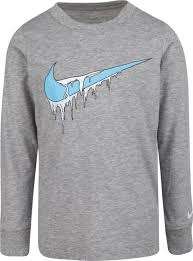nike: (32, 55, 158, 129)
